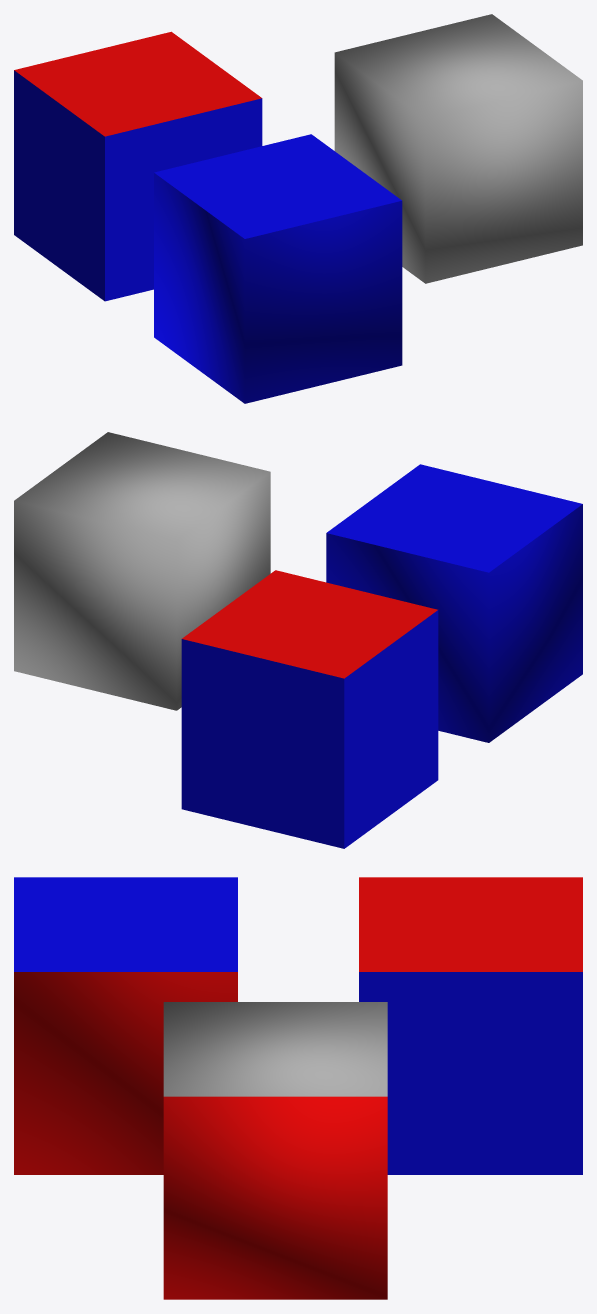
Rendered from testCube.fbx.
The picture shows the model from 3 angles, top to bottom: view 1: azimuth 30°, elevation 25°; view 2: azimuth 150°, elevation 25°; view 3: azimuth 270°, elevation 25°; orthographic projection. The views are drawn at different scales.
Parts seen in each view (by area): view 1: testCube, pCube1; view 2: testCube, pCube1; view 3: testCube, pCube1.
Part boxes in pixels (x1,y1,x2,y2): testCube: (14, 31, 402, 403); pCube1: (334, 14, 582, 283); testCube: (181, 464, 582, 848); pCube1: (14, 432, 270, 710); testCube: (14, 877, 582, 1174); pCube1: (163, 1002, 387, 1299).
Bounding box in the file's own units: 2.53 × 1.1 × 2.54.
